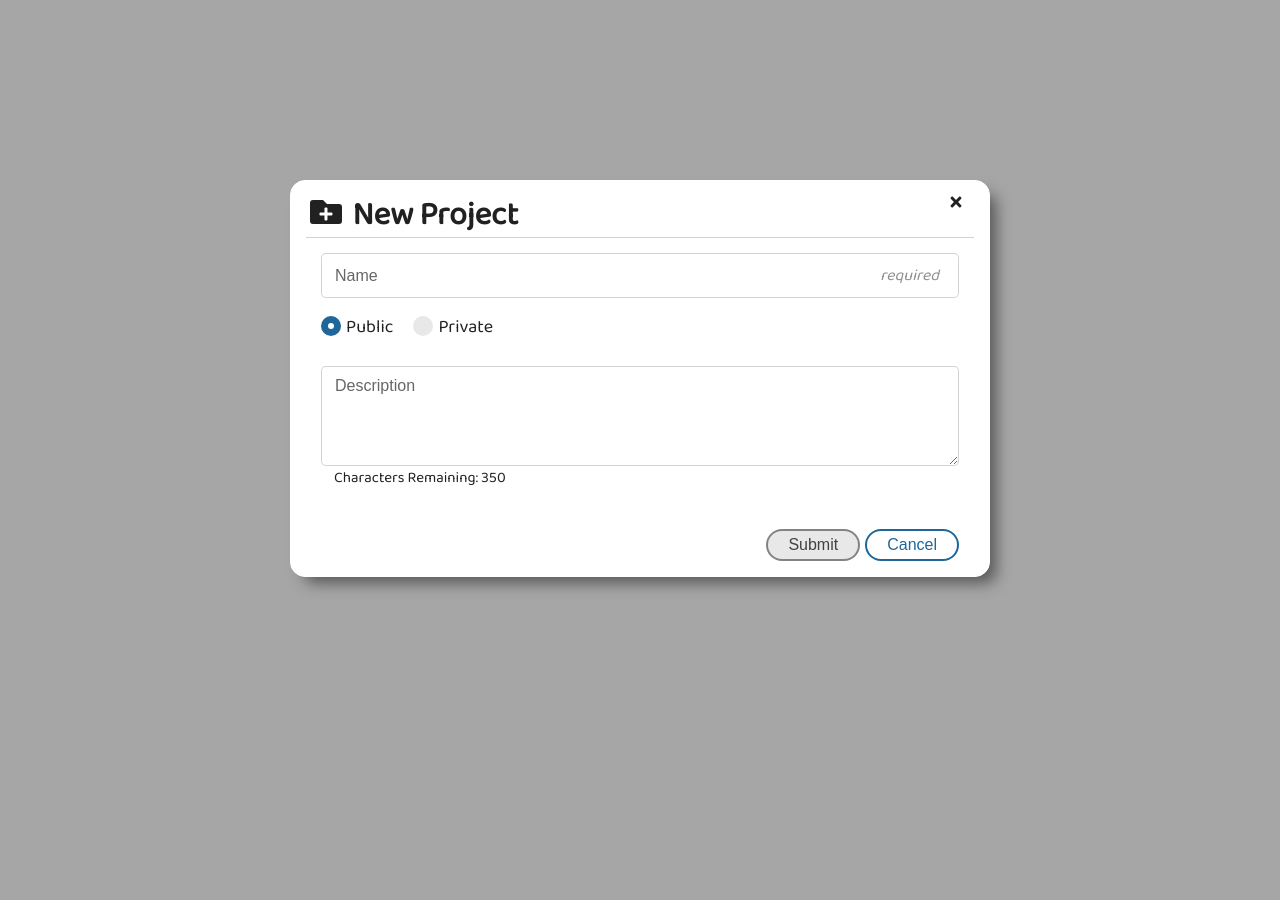
Test: <ProjectModal /> › should render 'Characters Remaining' helperText for description input
Type "somevalue" into the text box with test id "descriptionInput.input" at (640, 416), box [321, 366, 959, 466]
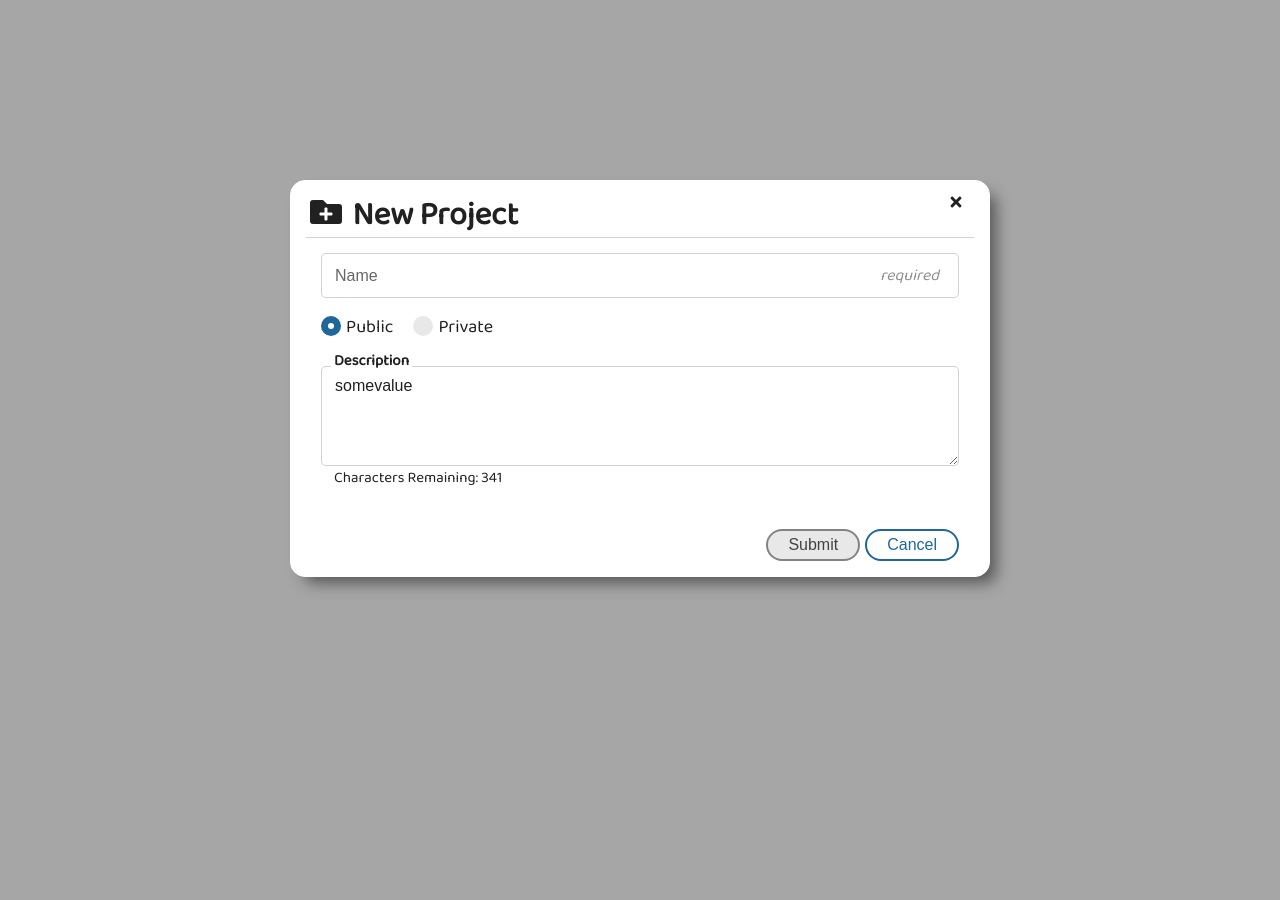
Expected: the text "Characters Remaining: 341" is shown, [334, 466, 502, 490]
